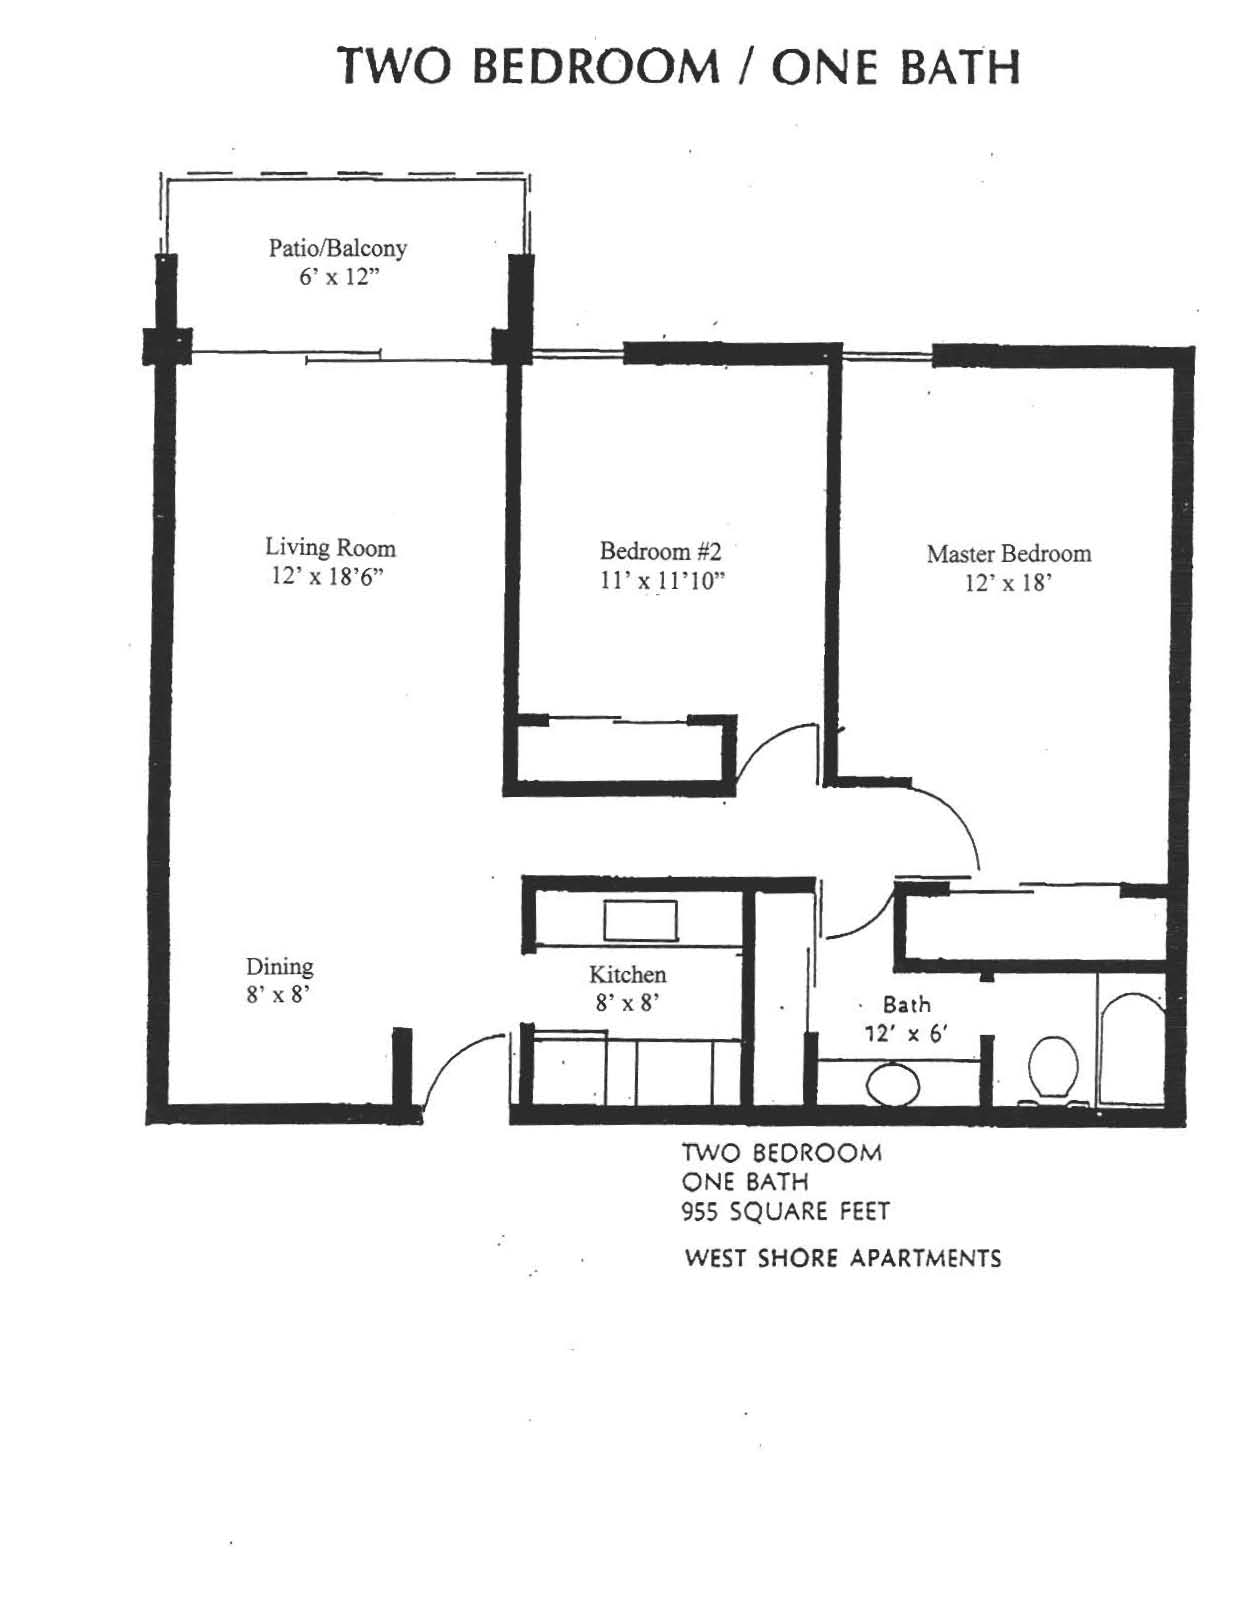room: (153, 333, 529, 1135), (820, 333, 1194, 1127), (502, 343, 836, 798), (526, 878, 821, 1123), (825, 966, 974, 1125)
